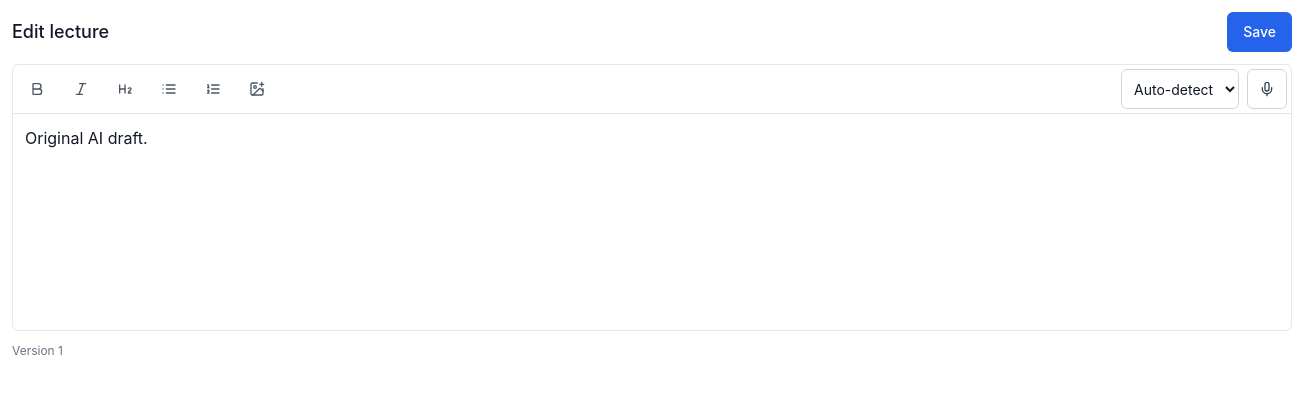
Test case: LectureEditorPanel — voice dictation (T-131) › shows an inline error when transcription fails
The width and height of the screenshot is (1304, 404).
expect the text box "Original AI draft." is shown: met, box [25,128,148,148]
Click the button named "Dictate".
click(1267, 89)  # box [1247,69,1287,109]
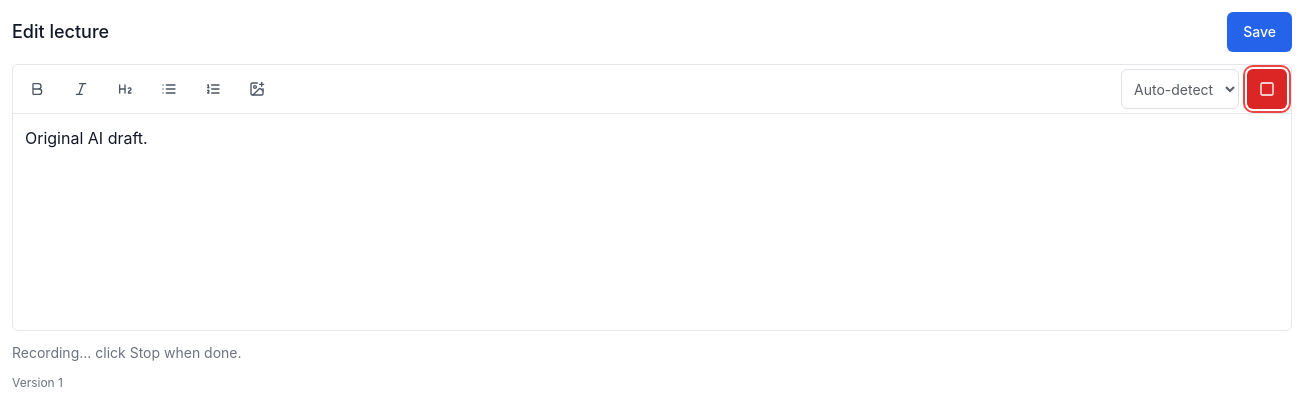
Click the button named "Stop dictating".
click(1267, 89)  # box [1247,69,1287,109]
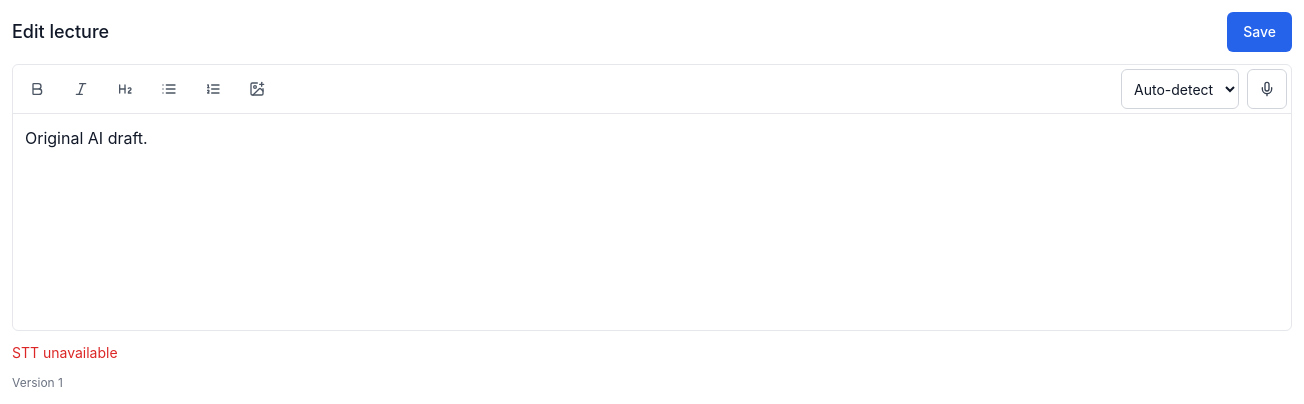
expect the text "STT unavailable" is shown: met, box [12,344,118,361]
